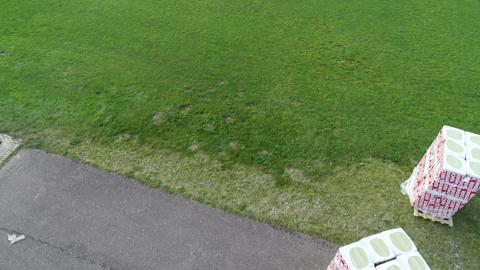RockwoolPallet: (402, 126, 479, 224)
